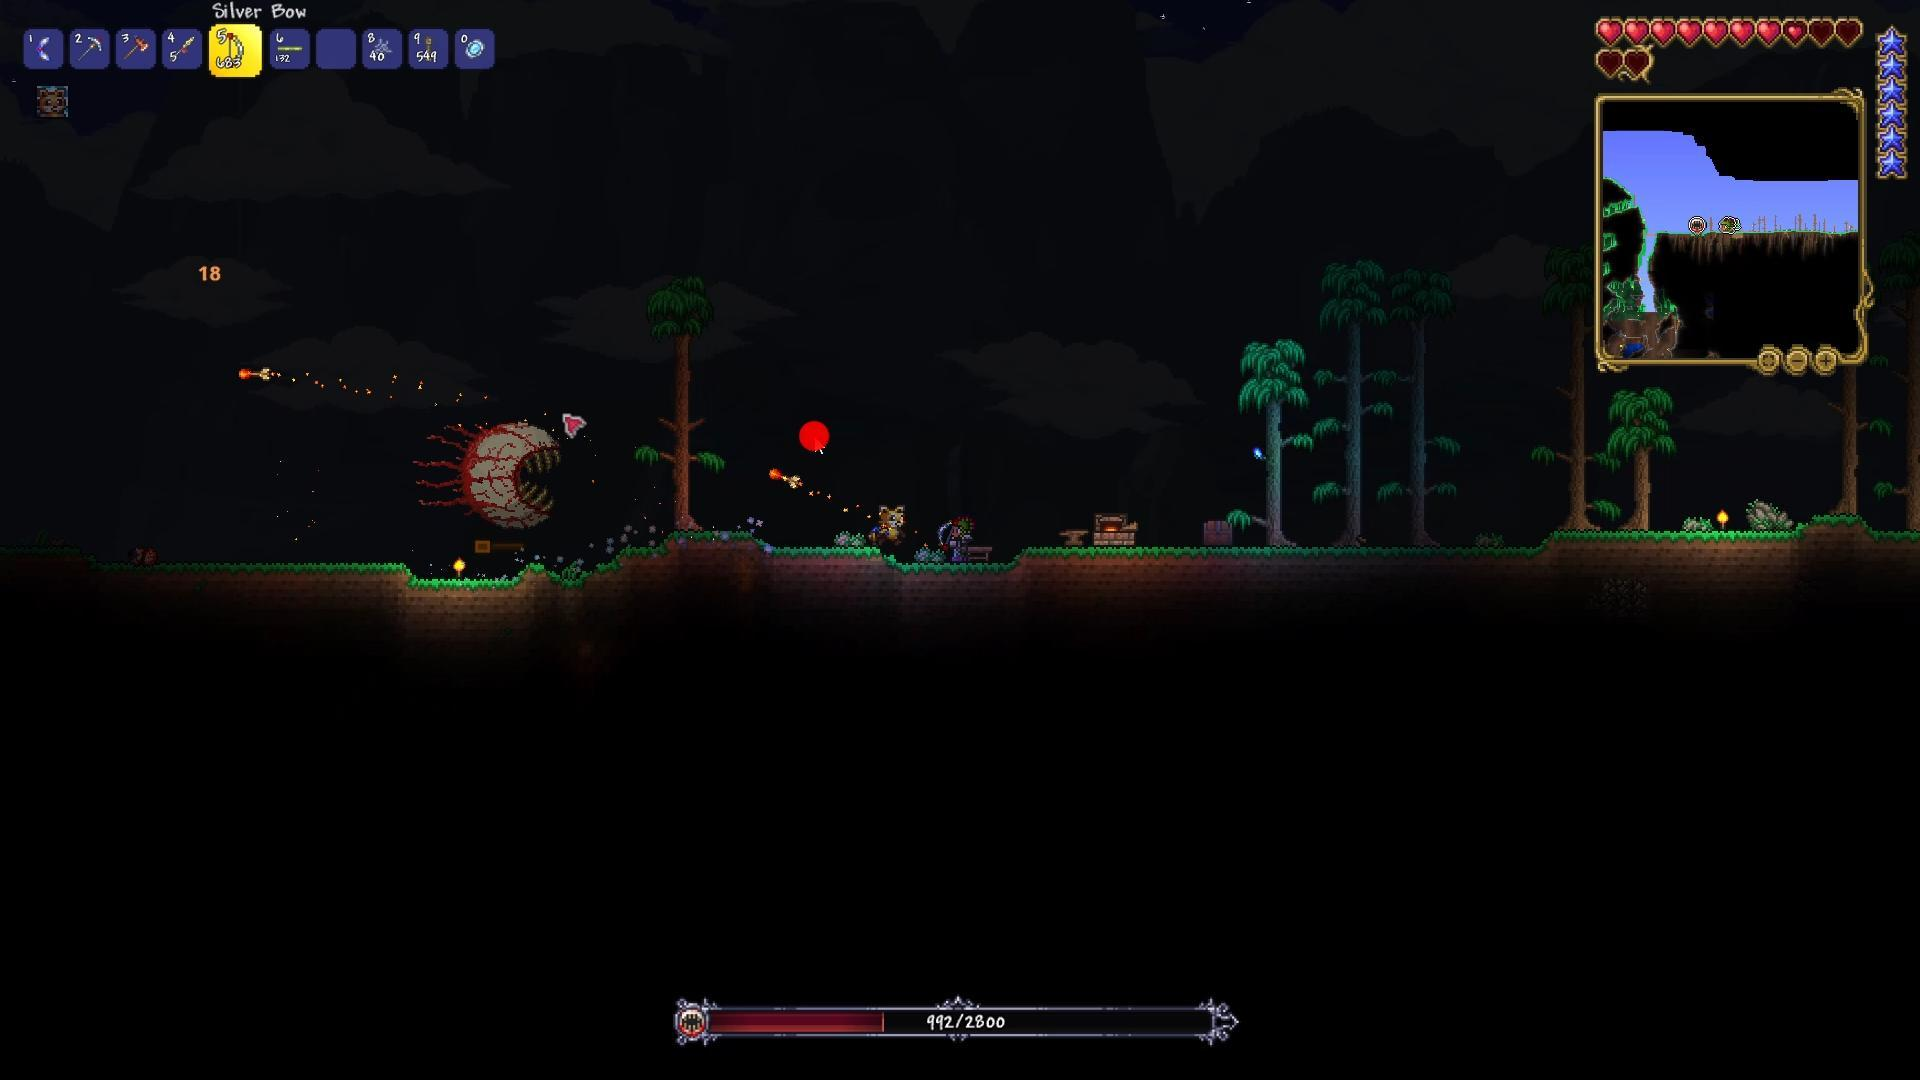dirt: (1222, 542, 1557, 584), (1543, 525, 1807, 572), (570, 521, 723, 596), (1025, 538, 1220, 592), (240, 558, 435, 593), (890, 556, 1027, 596), (738, 542, 890, 576), (1803, 514, 1913, 558), (468, 560, 575, 592), (156, 551, 245, 588), (711, 522, 753, 558)
